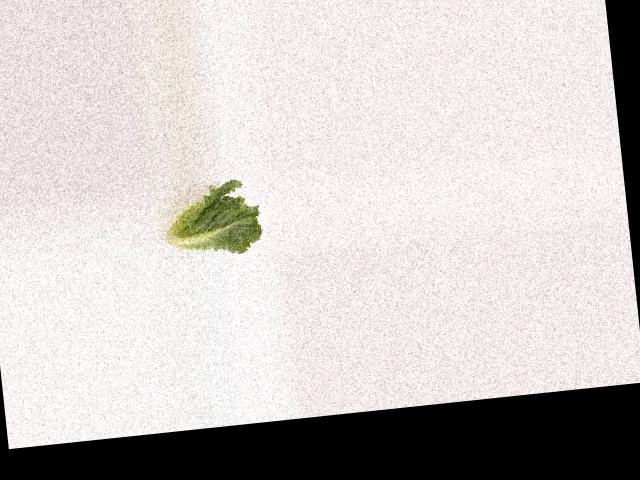lettuce: (151, 180, 267, 264)
